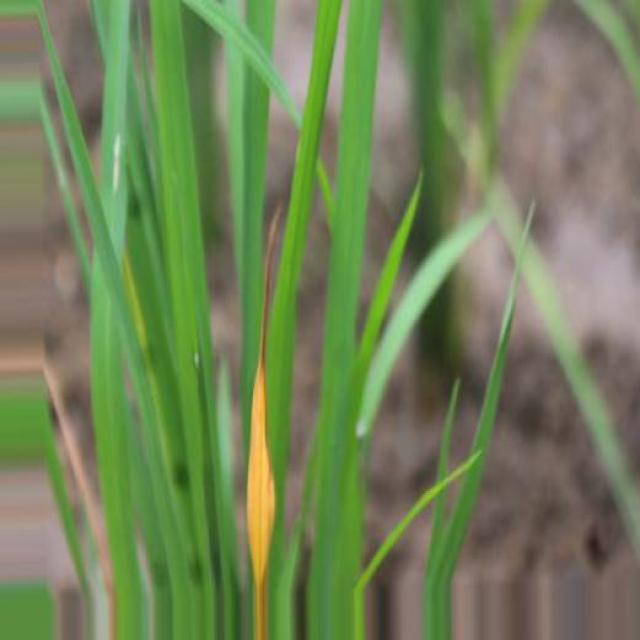Rice Tungro: (246, 213, 278, 639)
